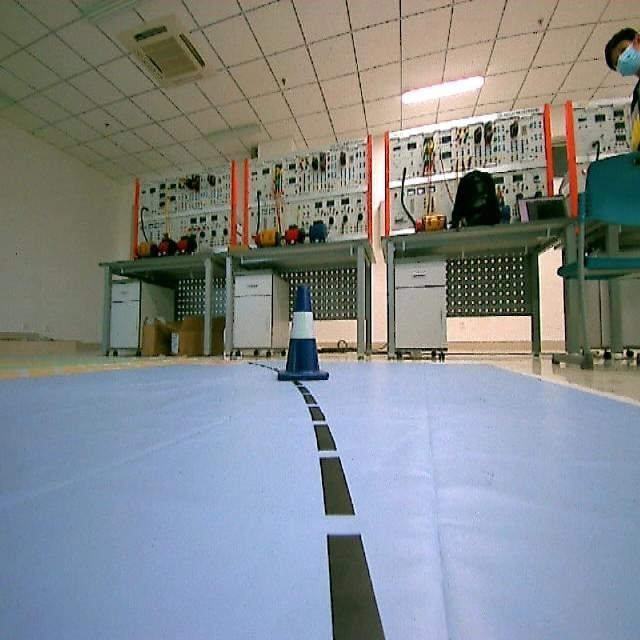obstacle: (268, 280, 332, 386)
